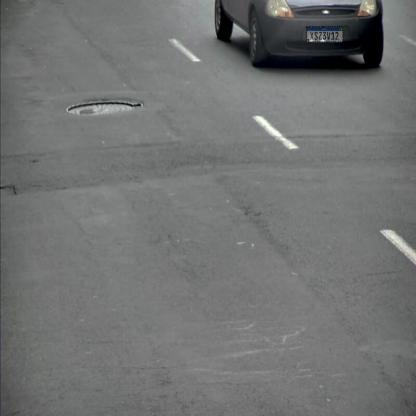PlacaM: (306, 26, 343, 42)
